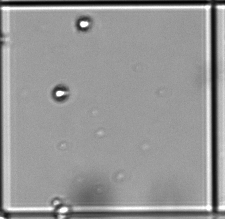Living Cell: (51, 85, 70, 102), (75, 15, 94, 32)
